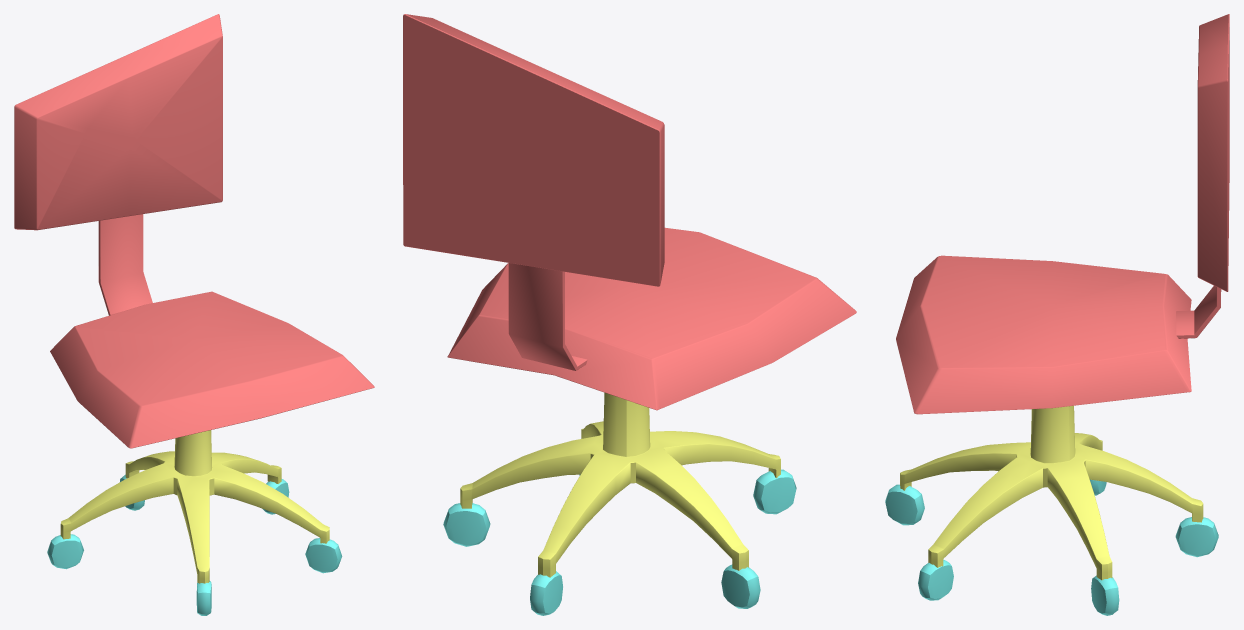
Rendered from chair.FBX.
3 views of the same model, side by side, from view 1: azimuth 30°, elevation 25°; view 2: azimuth 150°, elevation 25°; view 3: azimuth 270°, elevation 25° (orthographic). The views are drawn at different scales.
Visible parts, largest first — view 1: siege, tronc, roulettes; view 2: siege, tronc, roulettes; view 3: siege, tronc, roulettes.
Boxes of the visible parts, x1=… form: siege: x1=14, y1=14, x2=374, y2=448; tronc: x1=60, y1=430, x2=329, y2=583; roulettes: x1=47, y1=474, x2=342, y2=615; siege: x1=403, y1=14, x2=856, y2=410; tronc: x1=460, y1=392, x2=780, y2=577; roulettes: x1=443, y1=469, x2=796, y2=615; siege: x1=896, y1=14, x2=1229, y2=414; tronc: x1=900, y1=405, x2=1203, y2=580; roulettes: x1=885, y1=479, x2=1218, y2=615.
Size of the model in its own units: 53.96 by 96.04 by 56.34.
